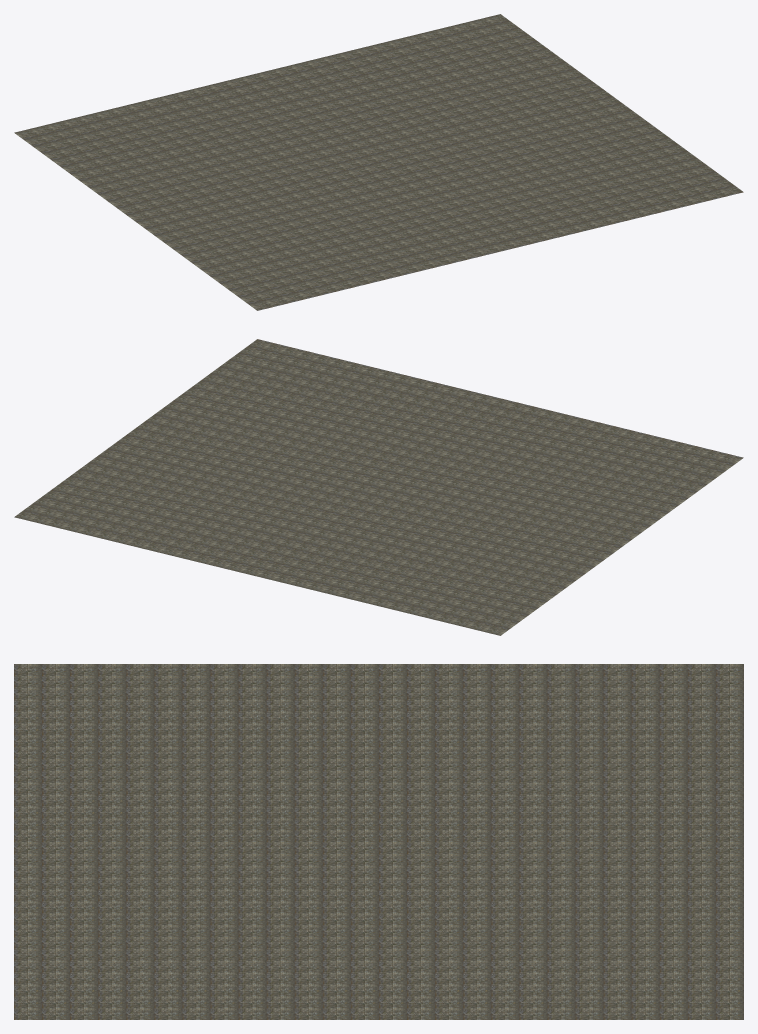
File: Tile4.fbx
3 views of the same model, one above another, from view 1: azimuth 30°, elevation 25°; view 2: azimuth 150°, elevation 25°; view 3: azimuth 270°, elevation 25° (orthographic). The views are drawn at different scales.
Parts seen in each view (by area): view 1: Lobby_Plane.001; view 2: Lobby_Plane.001; view 3: Lobby_Plane.001.
Part boxes in pixels (bbox=[...]): Lobby_Plane.001: bbox=[14, 14, 743, 310]; Lobby_Plane.001: bbox=[14, 339, 743, 635]; Lobby_Plane.001: bbox=[14, 664, 743, 1019].
Bounding box in the file's own units: 150 × 1.8e-05 × 130.
